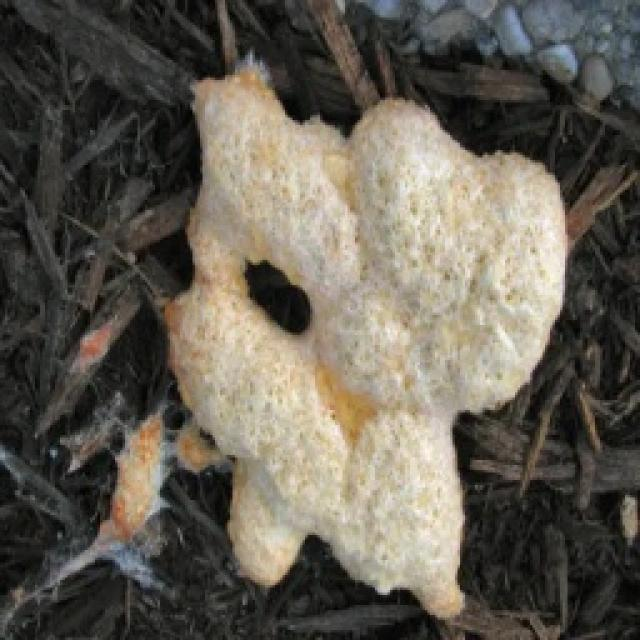Dog_vomit_slime_mold: (117, 75, 592, 638)
